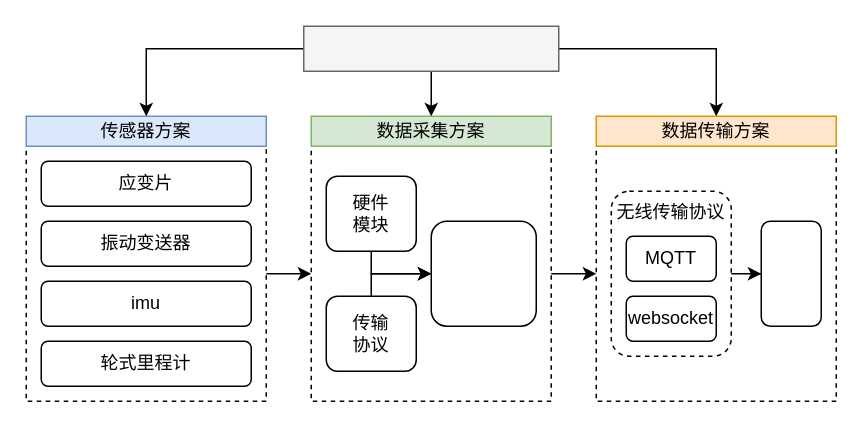
Some shapes in this 863 by 428 pixel diagram are drawn without their labels. The shapes that lost their labels are listed below. From the top down, each one's centre as x and y in pixels, then its label:
At point 430,48: "性能实时仿真技术方案".
At point 483,273: "边缘计算 设备".
At point 790,273: "中央 计算 设备".
